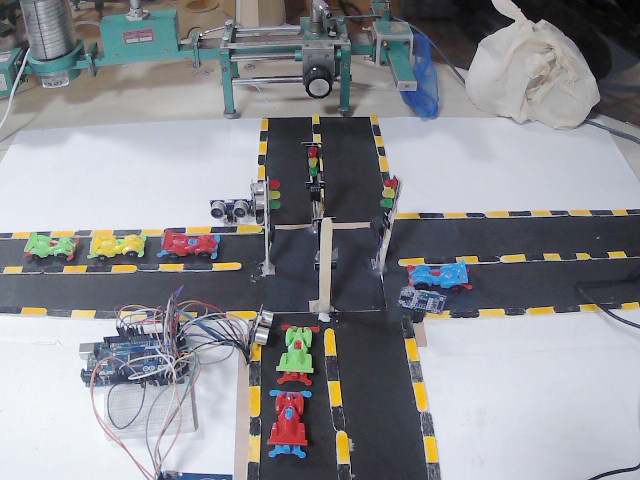car: (264, 388, 325, 452), (276, 326, 321, 373), (411, 261, 480, 290), (160, 227, 225, 257), (17, 236, 75, 262), (90, 229, 138, 253)
traffic_light: (301, 139, 330, 183), (264, 177, 284, 222), (380, 173, 393, 228)
uno_breadboard: (74, 326, 188, 443), (395, 287, 441, 319), (150, 464, 236, 480), (241, 307, 267, 349), (208, 198, 248, 221), (248, 181, 269, 221)
